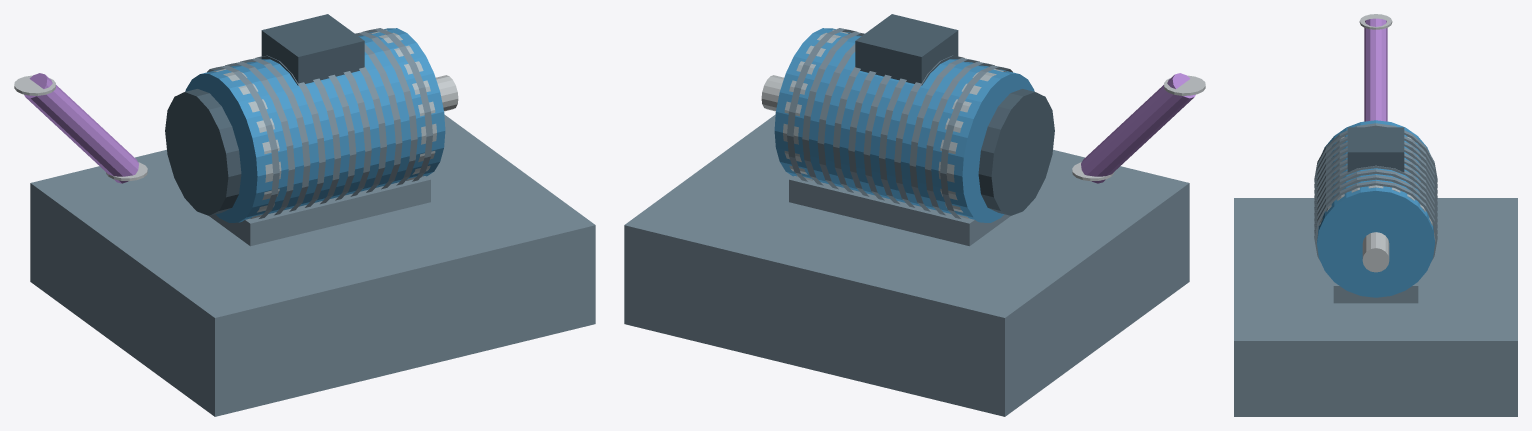
Rendered from 35_L77_BarrierFluidMeteringPump.glb.
3 views of the same model, side by side, from view 1: azimuth 30°, elevation 25°; view 2: azimuth 150°, elevation 25°; view 3: azimuth 270°, elevation 25° (orthographic). The views are drawn at different scales.
Parts seen in each view (by area): view 1: BarrierFluidMeteringPump_Node_0000, BarrierFluidMeteringPump_Node_0001, BarrierFluidMeteringPump_Node_0014, BarrierFluidMeteringPump_Node_0015, BarrierFluidMeteringPump_Node_0016, BarrierFluidMeteringPump_Node_0019, BarrierFluidMeteringPump_Node_0002, BarrierFluidMeteringPump_Node_0003, BarrierFluidMeteringPump_Node_0012, BarrierFluidMeteringPump_Node_0004, BarrierFluidMeteringPump_Node_0011, BarrierFluidMeteringPump_Node_0010 (+9 smaller); view 2: BarrierFluidMeteringPump_Node_0000, BarrierFluidMeteringPump_Node_0001, BarrierFluidMeteringPump_Node_0014, BarrierFluidMeteringPump_Node_0015, BarrierFluidMeteringPump_Node_0016, BarrierFluidMeteringPump_Node_0019, BarrierFluidMeteringPump_Node_0002, BarrierFluidMeteringPump_Node_0003, BarrierFluidMeteringPump_Node_0012, BarrierFluidMeteringPump_Node_0004, BarrierFluidMeteringPump_Node_0011, BarrierFluidMeteringPump_Node_0010 (+9 smaller); view 3: BarrierFluidMeteringPump_Node_0000, BarrierFluidMeteringPump_Node_0001, BarrierFluidMeteringPump_Node_0016, BarrierFluidMeteringPump_Node_0019, BarrierFluidMeteringPump_Node_0015, BarrierFluidMeteringPump_Node_0013, BarrierFluidMeteringPump_Node_0012, BarrierFluidMeteringPump_Node_0010, BarrierFluidMeteringPump_Node_0011, BarrierFluidMeteringPump_Node_0009, BarrierFluidMeteringPump_Node_0002, BarrierFluidMeteringPump_Node_0004 (+6 smaller).
Boxes of the visible parts, x1,y1,x2,y2 form: BarrierFluidMeteringPump_Node_0000: [30, 114, 595, 416]; BarrierFluidMeteringPump_Node_0001: [185, 28, 445, 222]; BarrierFluidMeteringPump_Node_0014: [165, 89, 241, 215]; BarrierFluidMeteringPump_Node_0015: [209, 176, 430, 246]; BarrierFluidMeteringPump_Node_0016: [261, 14, 364, 85]; BarrierFluidMeteringPump_Node_0019: [24, 73, 138, 183]; BarrierFluidMeteringPump_Node_0002: [207, 65, 279, 218]; BarrierFluidMeteringPump_Node_0003: [225, 61, 294, 215]; BarrierFluidMeteringPump_Node_0012: [363, 28, 432, 181]; BarrierFluidMeteringPump_Node_0004: [240, 58, 310, 211]; BarrierFluidMeteringPump_Node_0011: [355, 31, 417, 185]; BarrierFluidMeteringPump_Node_0010: [364, 43, 402, 189]; BarrierFluidMeteringPump_Node_0000: [624, 114, 1189, 416]; BarrierFluidMeteringPump_Node_0001: [774, 28, 1034, 222]; BarrierFluidMeteringPump_Node_0014: [978, 89, 1054, 215]; BarrierFluidMeteringPump_Node_0015: [789, 176, 1010, 246]; BarrierFluidMeteringPump_Node_0016: [855, 14, 958, 85]; BarrierFluidMeteringPump_Node_0019: [1081, 73, 1195, 183]; BarrierFluidMeteringPump_Node_0002: [940, 65, 1012, 218]; BarrierFluidMeteringPump_Node_0003: [925, 61, 994, 215]; BarrierFluidMeteringPump_Node_0012: [787, 28, 856, 181]; BarrierFluidMeteringPump_Node_0004: [909, 58, 979, 211]; BarrierFluidMeteringPump_Node_0011: [802, 31, 864, 185]; BarrierFluidMeteringPump_Node_0010: [817, 43, 855, 189]; BarrierFluidMeteringPump_Node_0000: [1234, 198, 1517, 416]; BarrierFluidMeteringPump_Node_0001: [1317, 120, 1434, 297]; BarrierFluidMeteringPump_Node_0016: [1347, 127, 1404, 172]; BarrierFluidMeteringPump_Node_0019: [1364, 18, 1387, 121]; BarrierFluidMeteringPump_Node_0015: [1333, 282, 1418, 303]; BarrierFluidMeteringPump_Node_0013: [1362, 232, 1389, 272]; BarrierFluidMeteringPump_Node_0012: [1314, 180, 1437, 260]; BarrierFluidMeteringPump_Node_0010: [1314, 169, 1437, 228]; BarrierFluidMeteringPump_Node_0011: [1314, 175, 1437, 233]; BarrierFluidMeteringPump_Node_0009: [1314, 165, 1437, 222]; BarrierFluidMeteringPump_Node_0002: [1314, 123, 1437, 182]; BarrierFluidMeteringPump_Node_0004: [1314, 142, 1437, 193].
Size of the model in its own units: 1.75 by 1.01 by 1.15.
